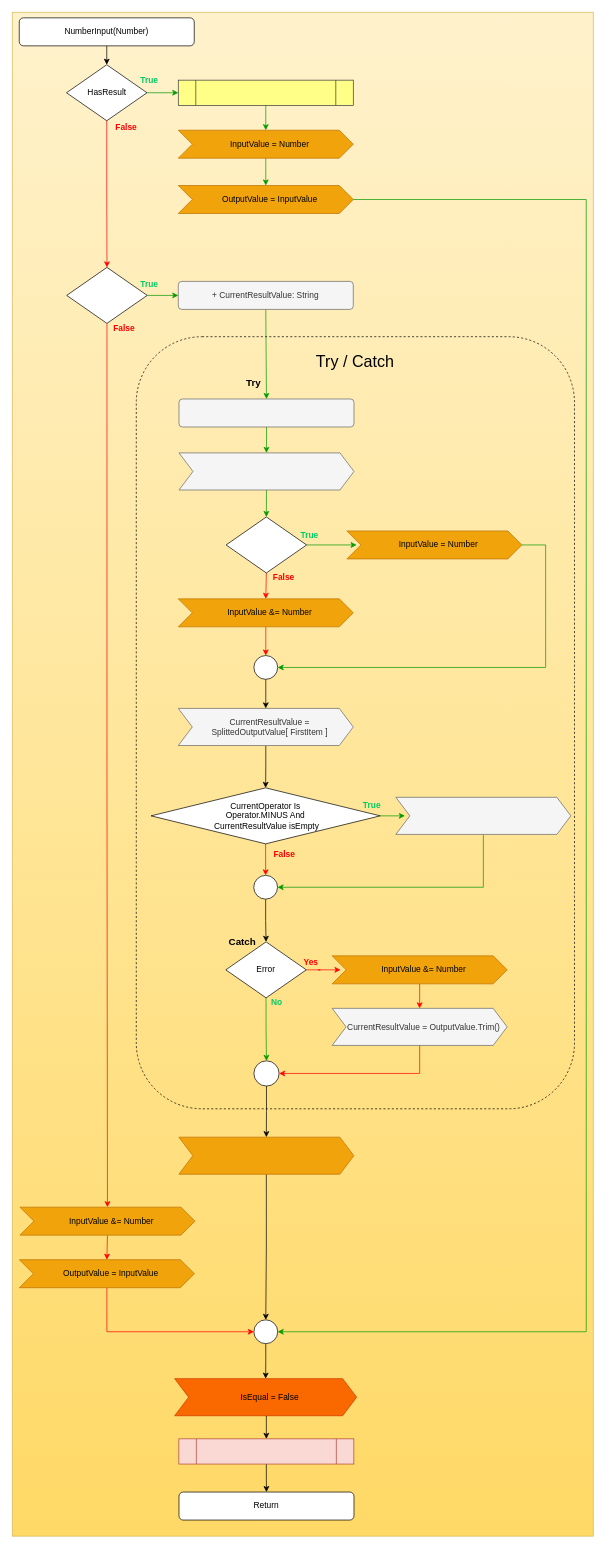
This 606x1548 diagram has some shape labels left out. Here are the shapes that lost their labels. From the top down, the centre of each, then its label:
At point 265,92: "ResetValues()".
At point 106,295: "HasOperator".
At point 266,412: "+ SplittedOutputValue: String".
At point 266,471: "SplittedOutputValue = OutputValue.Split(CurrentOperator.Sign)".
At point 266,544: "InputValue Is Zero".
At point 483,815: "CurrentResultValue = Operator.MINUS.Sign & SplittedOutputValue[ SecondItem ]".
At point 266,1155: "OutputValue = CurrentResultValue & CurrentOperator.Sign & InputValue".
At point 266,1451: "Display(OutputValue)".
